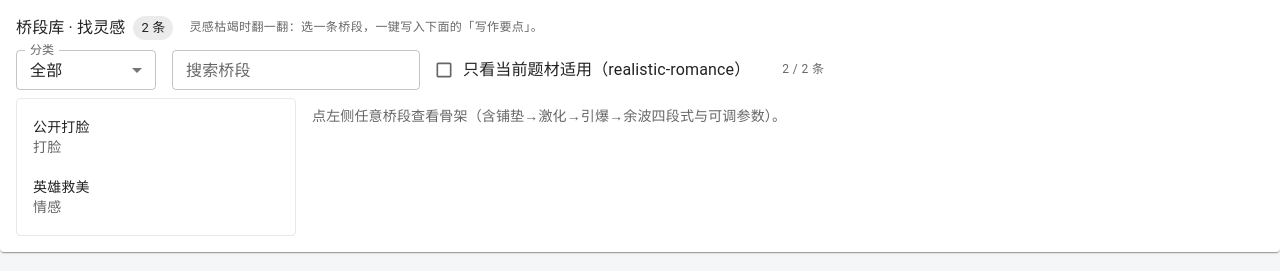
it: TropePanel › 只看当前题材适用：过滤掉不适用的桥段
Expected: the text "公开打脸" is shown, [33,119,90,135]
Click the checkbox labelled "只看当前题材适用（realistic-romance）" at point(592, 70), box [434,60,750,80]
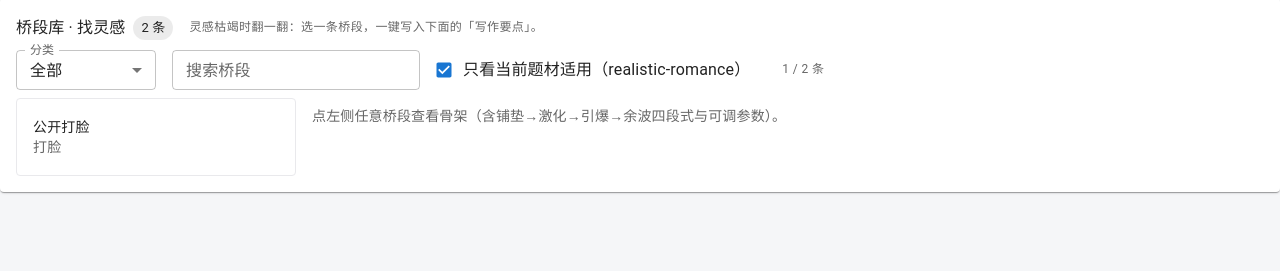
Expected: the text "公开打脸" is shown, [33,119,90,135]
Expected: the button "英雄救美" is gone
